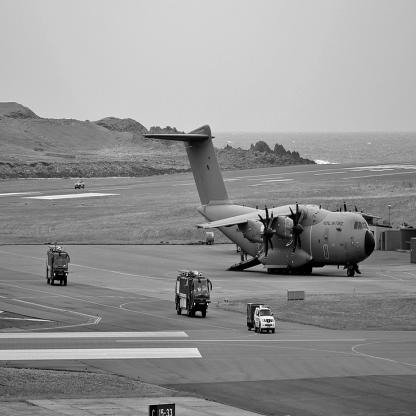A400M: (140, 125, 383, 278)
